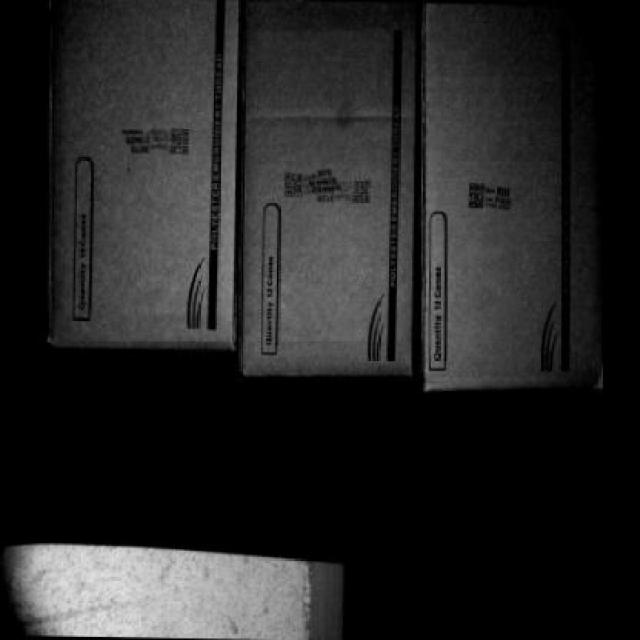cardboxes: (423, 9, 606, 389), (46, 0, 242, 346), (245, 5, 422, 369)
